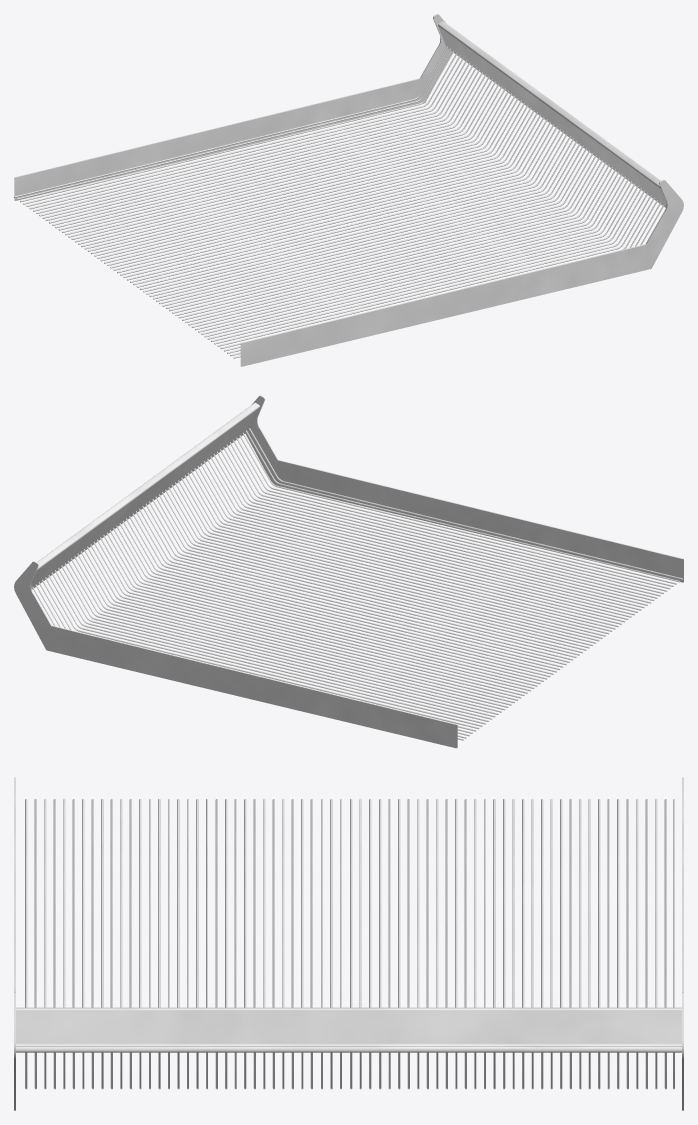
The model's file is ShelfBasketBase01.fbx.
The picture shows the model from 3 angles, top to bottom: view 1: azimuth 30°, elevation 25°; view 2: azimuth 150°, elevation 25°; view 3: azimuth 270°, elevation 25°; orthographic projection. The views are drawn at different scales.
Parts seen in each view (by area): view 1: ShelfBasketBase01; view 2: ShelfBasketBase01; view 3: ShelfBasketBase01.
Boxes of the visible parts, bbox=[...] form: ShelfBasketBase01: bbox=[14, 14, 683, 366]; ShelfBasketBase01: bbox=[14, 395, 683, 748]; ShelfBasketBase01: bbox=[14, 777, 683, 1110].
Size of the model in its own units: 69.9 by 61.65 by 12.81.
Materials: 1 (1 with a texture image).
